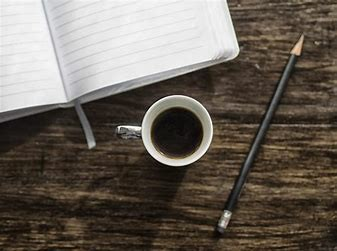pen: (220, 32, 309, 231)
